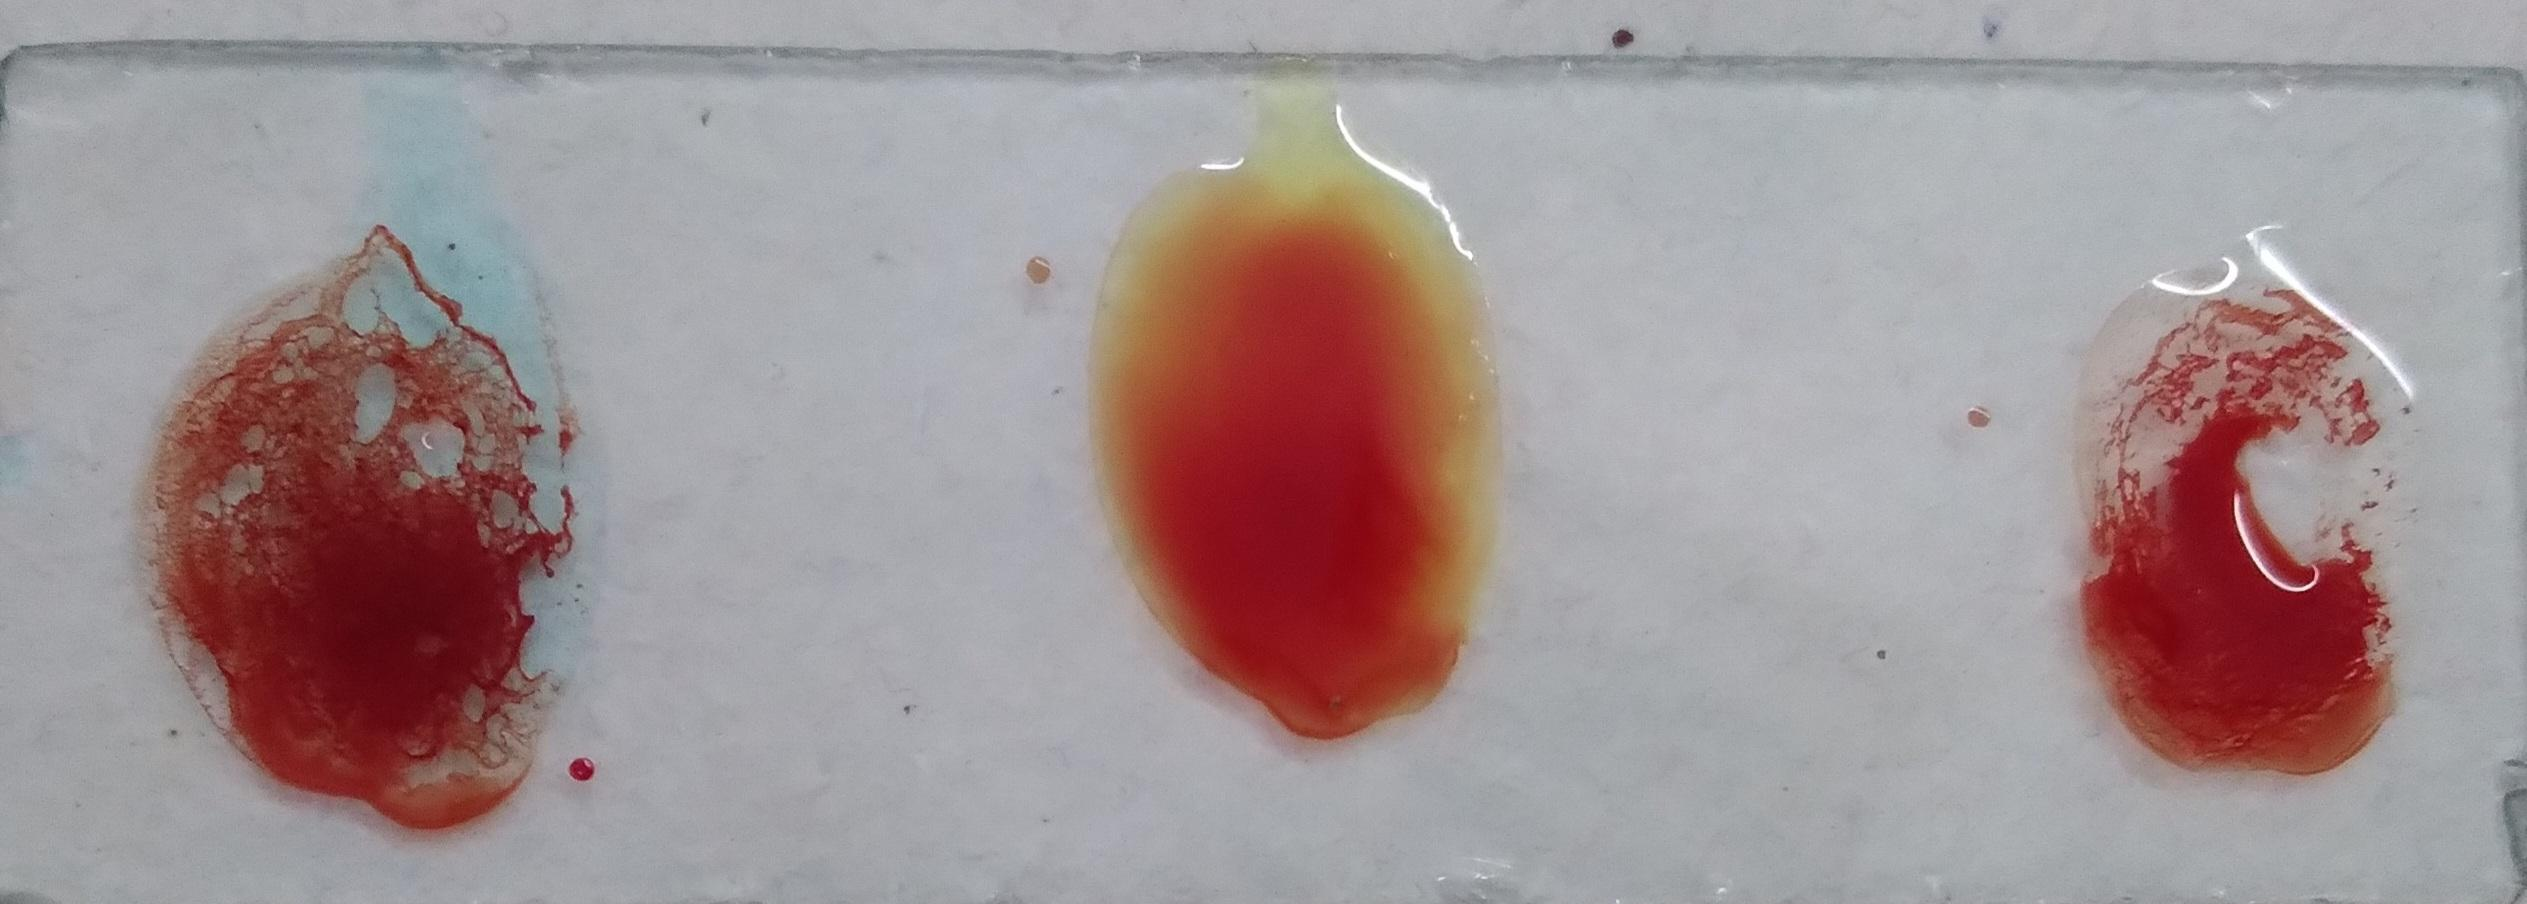A: (1932, 85, 2387, 725)
D: (108, 126, 456, 657)
